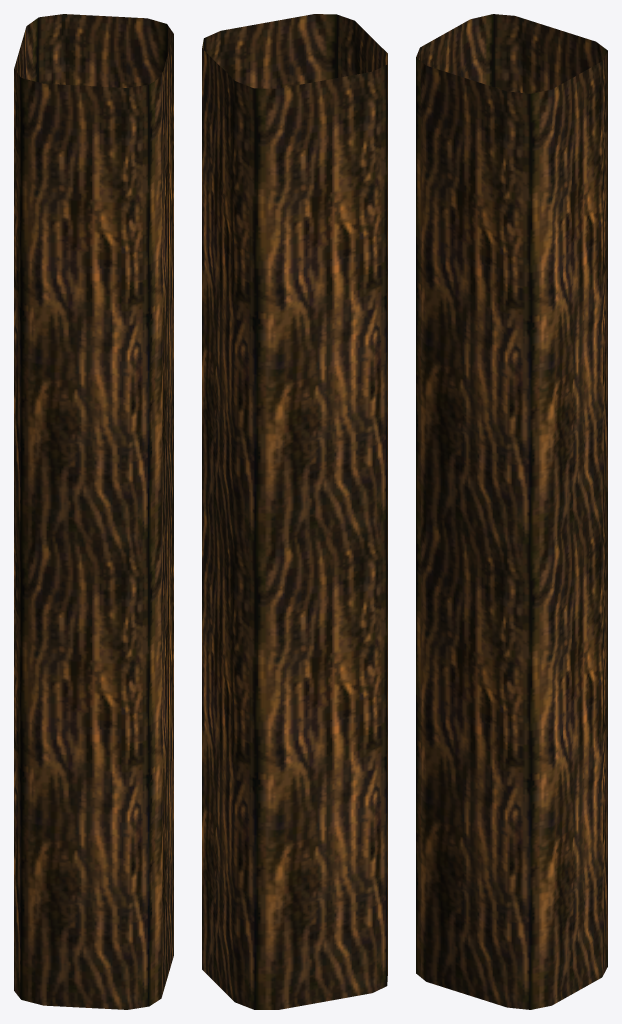
Rendered from OVERHILL_A_01_LINE259.fbx.
3 views of the same model, side by side, from view 1: azimuth 30°, elevation 25°; view 2: azimuth 150°, elevation 25°; view 3: azimuth 270°, elevation 25° (orthographic).
Parts seen in each view (by area): view 1: OVERHILL_A_01_LINE259; view 2: OVERHILL_A_01_LINE259; view 3: OVERHILL_A_01_LINE259.
Part boxes in pixels (x1=…): OVERHILL_A_01_LINE259: x1=14, y1=14, x2=173, y2=1009; OVERHILL_A_01_LINE259: x1=202, y1=14, x2=387, y2=1009; OVERHILL_A_01_LINE259: x1=416, y1=14, x2=607, y2=1009.
Bounding box in the file's own units: 6000 × 32107 × 6095.
1 material, 1 textured.
